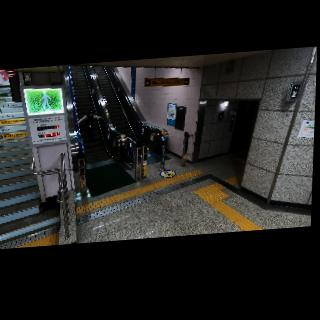normal: (74, 108, 106, 146)
